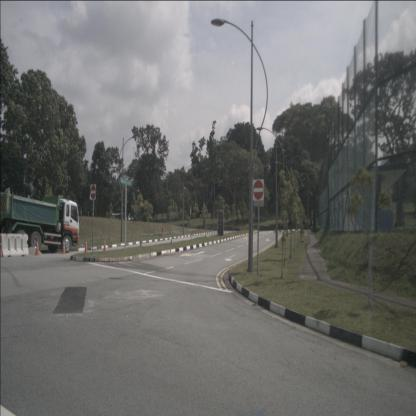movable_object-barrier: (0, 233, 30, 258)
movable_object-trafficcone: (34, 240, 40, 256), (61, 239, 67, 254), (84, 240, 88, 253), (103, 239, 107, 252)
vehicle-truck: (0, 187, 80, 253)
